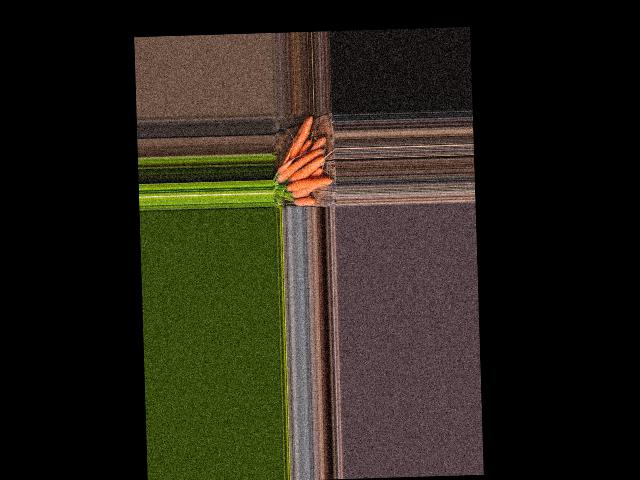carrot: (288, 117, 316, 159)
